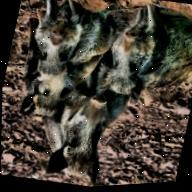boar: (94, 0, 192, 118), (37, 89, 138, 188), (15, 0, 116, 86), (12, 52, 92, 131)
